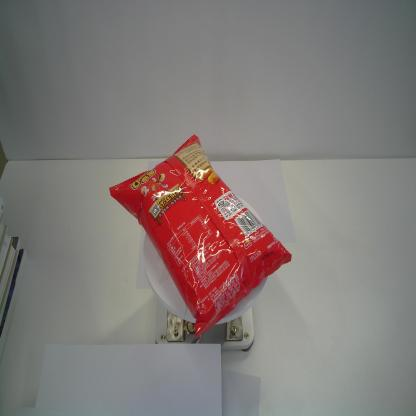Puffed Food: (108, 133, 292, 339)
